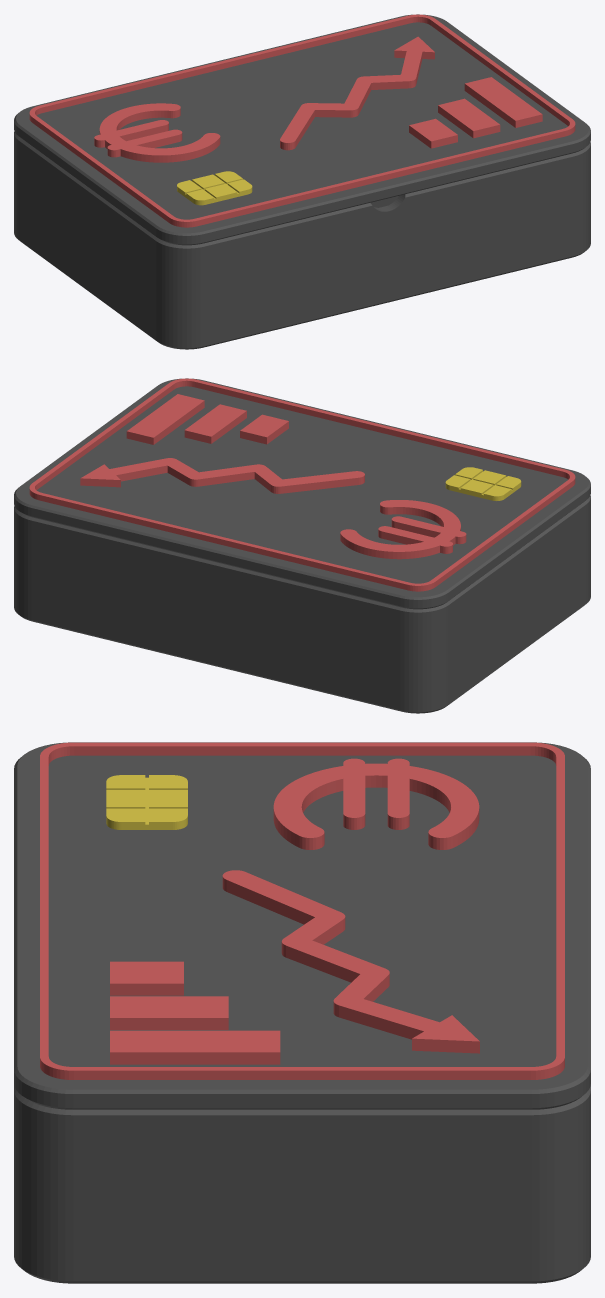
Rendered from economia-montato-v3.glb.
3 views of the same model, one above another, from view 1: azimuth 30°, elevation 25°; view 2: azimuth 150°, elevation 25°; view 3: azimuth 270°, elevation 25° (orthographic). The views are drawn at different scales.
Parts seen in each view (by area): view 1: 01_vaschetta, 02_coperchio_carta, 03_cornice, 04_euro, 05_freccia, 06_colonna_3, 07_chip, 06_colonna_2, 06_colonna_1; view 2: 01_vaschetta, 02_coperchio_carta, 03_cornice, 04_euro, 05_freccia, 06_colonna_3, 07_chip, 06_colonna_2, 06_colonna_1; view 3: 02_coperchio_carta, 01_vaschetta, 03_cornice, 05_freccia, 04_euro, 06_colonna_3, 07_chip, 06_colonna_2, 06_colonna_1.
Boxes of the visible parts, left/top/right/bottom form: 01_vaschetta: left=14, top=131, right=590, bottom=349; 02_coperchio_carta: left=14, top=14, right=590, bottom=245; 03_cornice: left=29, top=14, right=575, bottom=227; 04_euro: left=94, top=103, right=220, bottom=162; 05_freccia: left=280, top=36, right=434, bottom=150; 06_colonna_3: left=464, top=77, right=542, bottom=127; 07_chip: left=177, top=171, right=252, bottom=205; 06_colonna_2: left=438, top=98, right=500, bottom=138; 06_colonna_1: left=409, top=118, right=457, bottom=148; 01_vaschetta: left=14, top=495, right=590, bottom=713; 02_coperchio_carta: left=14, top=378, right=590, bottom=609; 03_cornice: left=29, top=378, right=575, bottom=591; 04_euro: left=340, top=500, right=466, bottom=559; 05_freccia: left=80, top=458, right=364, bottom=493; 06_colonna_3: left=126, top=394, right=204, bottom=444; 07_chip: left=445, top=467, right=521, bottom=500; 06_colonna_2: left=184, top=404, right=246, bottom=443; 06_colonna_1: left=240, top=414, right=288, bottom=444; 02_coperchio_carta: left=14, top=742, right=590, bottom=1109; 01_vaschetta: left=14, top=1084, right=590, bottom=1283; 03_cornice: left=40, top=742, right=564, bottom=1079; 05_freccia: left=222, top=870, right=479, bottom=1053; 04_euro: left=273, top=758, right=479, bottom=849; 06_colonna_3: left=110, top=1030, right=280, bottom=1064; 07_chip: left=106, top=775, right=187, bottom=829; 06_colonna_2: left=110, top=996, right=228, bottom=1029; 06_colonna_1: left=110, top=961, right=183, bottom=995.
Bounding box in the file's own units: 0.112 × 0.0308 × 0.078.
